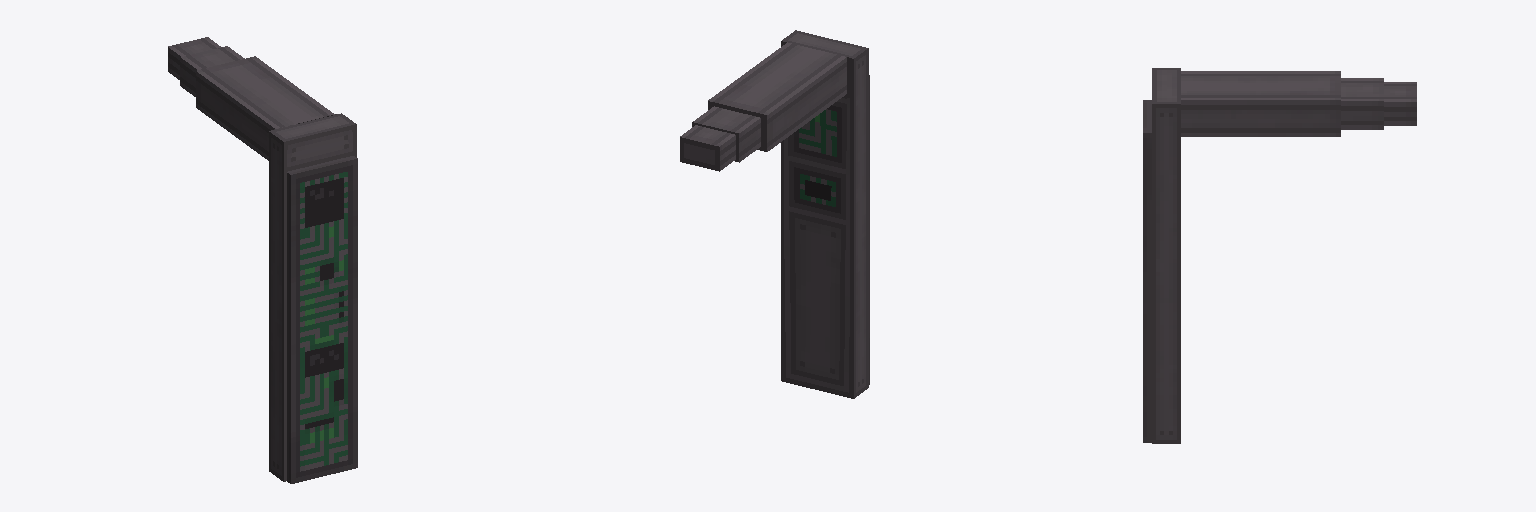
The picture shows the model from 3 angles: view 1: azimuth 30°, elevation 25°; view 2: azimuth 150°, elevation 25°; view 3: azimuth 270°, elevation 25°; orthographic projection.
Parts seen in each view (by area): view 1: Cube; view 2: Cube; view 3: Cube.
Part boxes in pixels (left/top/right/bottom): Cube: left=168, top=37, right=357, bottom=483; Cube: left=680, top=30, right=869, bottom=398; Cube: left=1143, top=68, right=1416, bottom=443.
Size of the model in its own units: 0.5575 by 2.49 by 1.81.
1 materials, 1 textured.